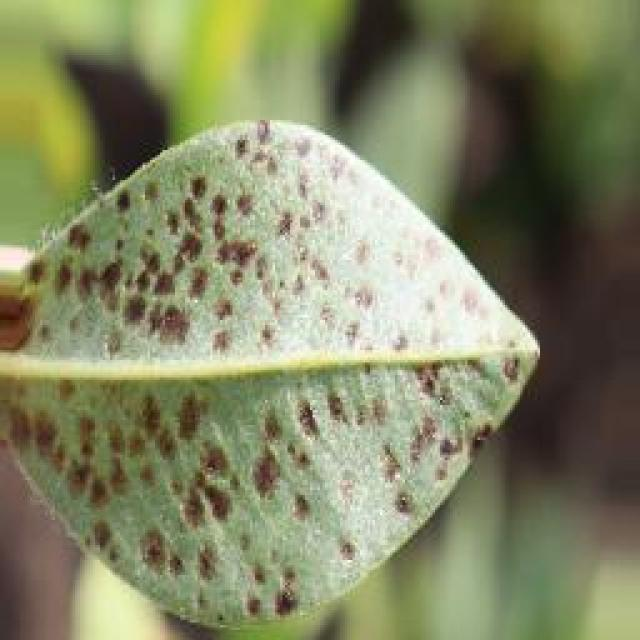Whitefly: (0, 110, 510, 628)
